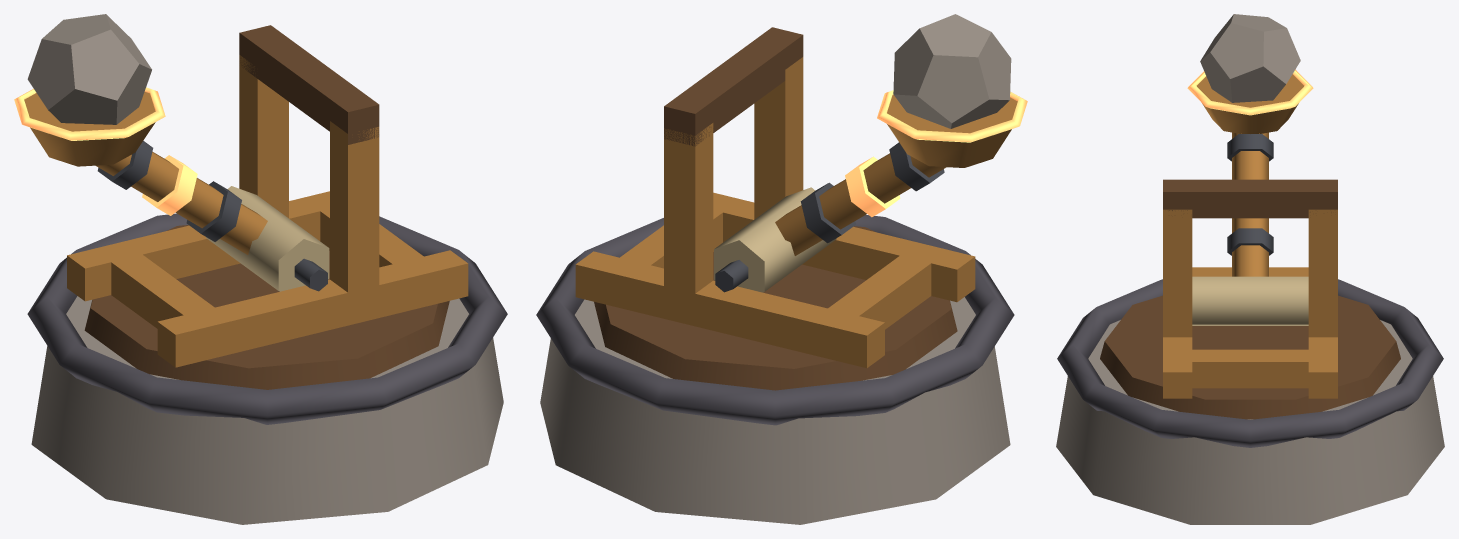
File: tower_catapult_siege.glb
3 views of the same model, side by side, from view 1: azimuth 30°, elevation 25°; view 2: azimuth 150°, elevation 25°; view 3: azimuth 270°, elevation 25° (orthographic). The views are drawn at different scales.
Visible parts, largest first — view 1: base, base_rim, turntable, rail_l, stone_0, stop_bar, upright_l, rail_r, upright_r, cross_w, torsion_rope, basket_0 (+5 smaller); view 2: base, base_rim, turntable, rail_r, stone_0, upright_r, stop_bar, rail_l, upright_l, cross_w, torsion_rope, basket_0 (+5 smaller); view 3: base, turntable, base_rim, stone_0, stop_bar, torsion_rope, cross_e, upright_l, upright_r, arm_beam, basket_0, rail_l (+4 smaller).
Part boxes in pixels (<box>): base: <box>31,296,503,524</box>; base_rim: <box>27,213,507,424</box>; turntable: <box>84,225,449,389</box>; rail_l: <box>157,250,468,367</box>; stone_0: <box>27,14,151,124</box>; stop_bar: <box>239,25,379,144</box>; upright_l: <box>330,121,379,292</box>; rail_r: <box>67,191,329,301</box>; upright_r: <box>239,55,288,218</box>; cross_w: <box>111,243,232,360</box>; torsion_rope: <box>206,186,329,291</box>; basket_0: <box>24,92,155,166</box>; base: <box>540,297,1010,524</box>; base_rim: <box>536,215,1014,425</box>; turntable: <box>594,226,957,390</box>; rail_r: <box>575,251,884,368</box>; stone_0: <box>893,14,1011,128</box>; upright_r: <box>664,123,713,298</box>; stop_bar: <box>664,27,803,146</box>; rail_l: <box>713,192,975,302</box>; upright_l: <box>754,57,803,219</box>; cross_w: <box>809,242,948,361</box>; torsion_rope: <box>714,187,836,292</box>; basket_0: <box>887,95,1017,167</box>; base: <box>1056,320,1444,524</box>; turntable: <box>1100,295,1400,419</box>; base_rim: <box>1057,279,1443,447</box>; stone_0: <box>1200,14,1300,102</box>; stop_bar: <box>1163,179,1337,218</box>; torsion_rope: <box>1192,276,1308,325</box>; cross_e: <box>1163,349,1337,388</box>; upright_l: <box>1163,209,1192,337</box>; upright_r: <box>1308,209,1337,337</box>; arm_beam: <box>1232,132,1268,276</box>; basket_0: <box>1197,74,1303,133</box>; rail_l: <box>1163,337,1192,398</box>.
Size of the model in its own units: 0.434 by 0.4058 by 0.4.
